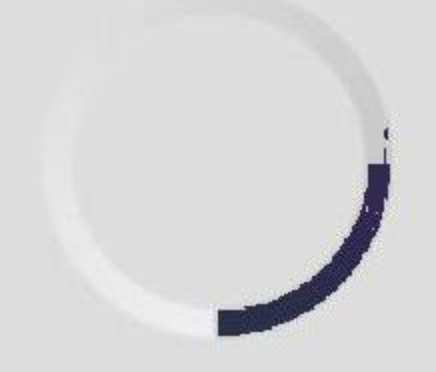ProgressBar: (1, 1, 435, 371)
